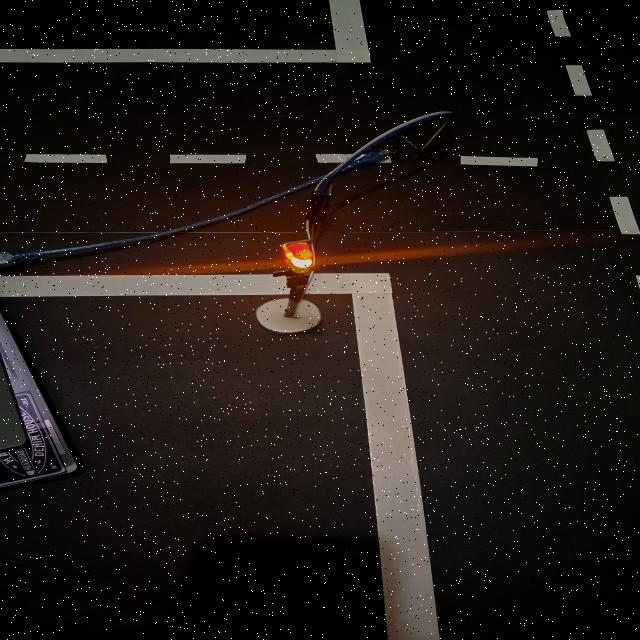Lampu Kuning: (280, 239, 316, 275)
